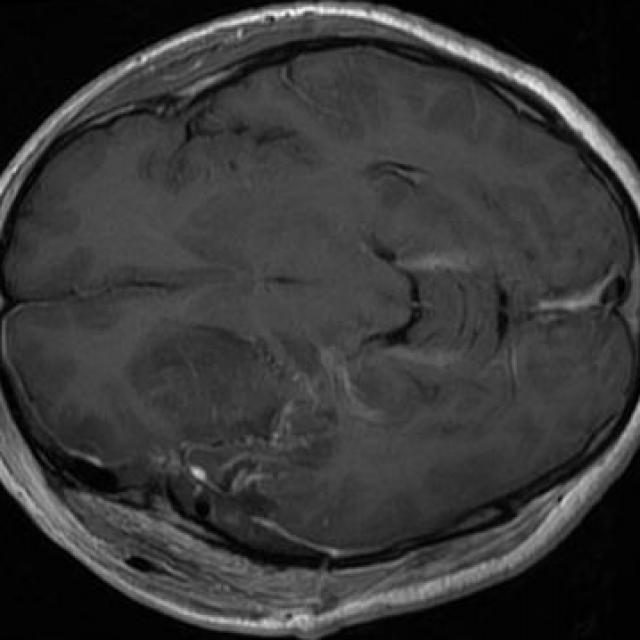glioma: (125, 323, 337, 519)
